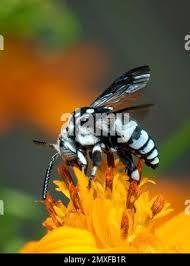Thyreus: (31, 60, 165, 194)
